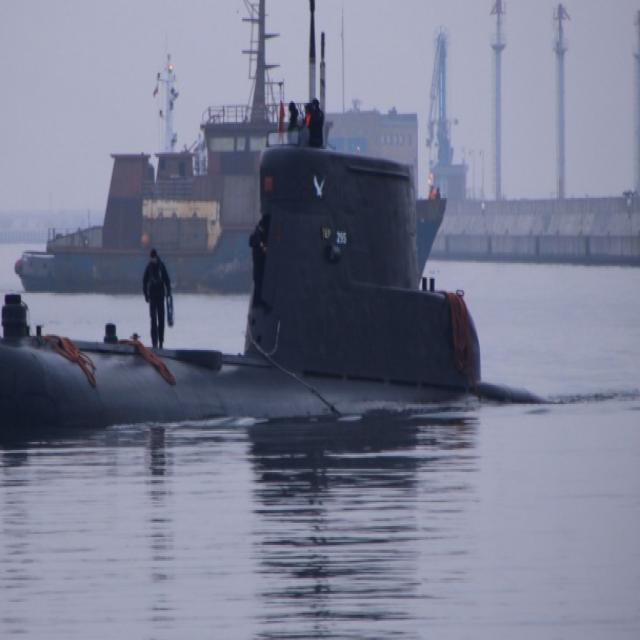submarine: (1, 1, 555, 445)
